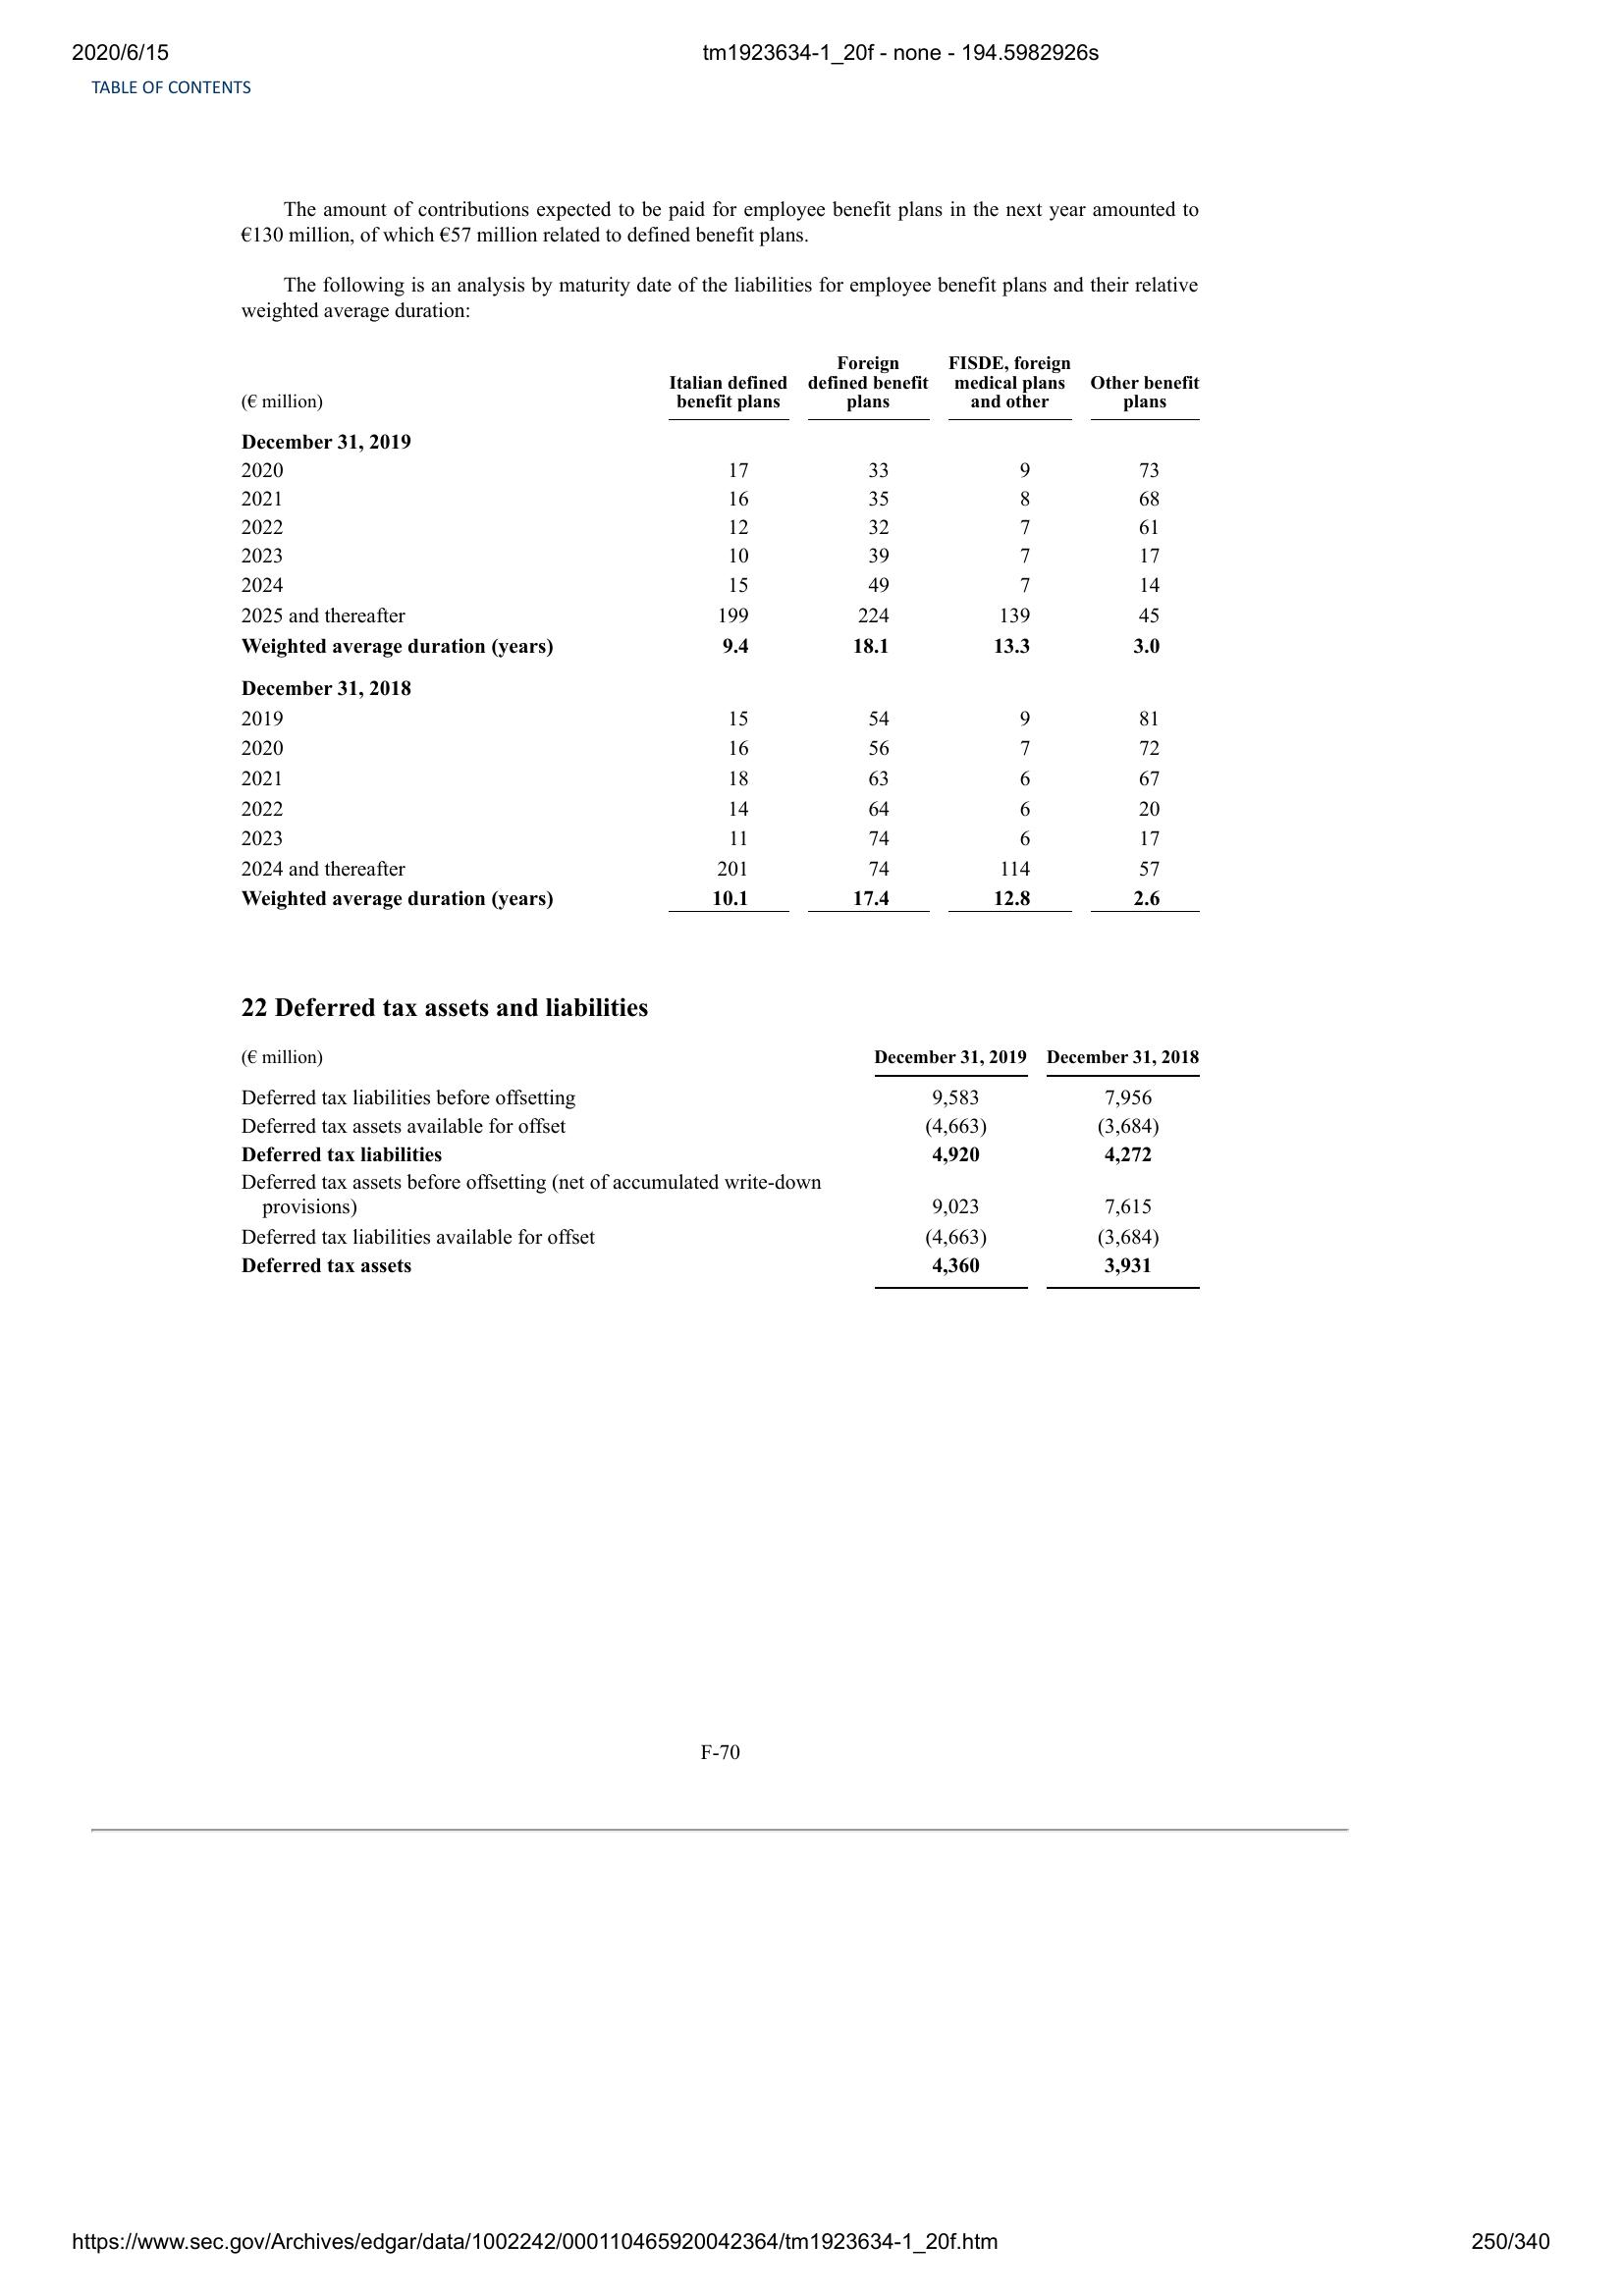table: (235, 351, 1205, 918), (234, 1037, 1212, 1295)
